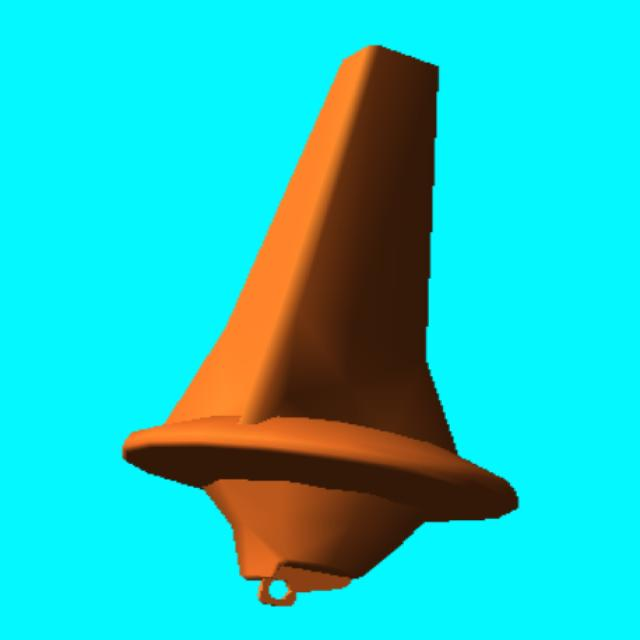OrangeBuoy: (124, 46, 517, 605)
